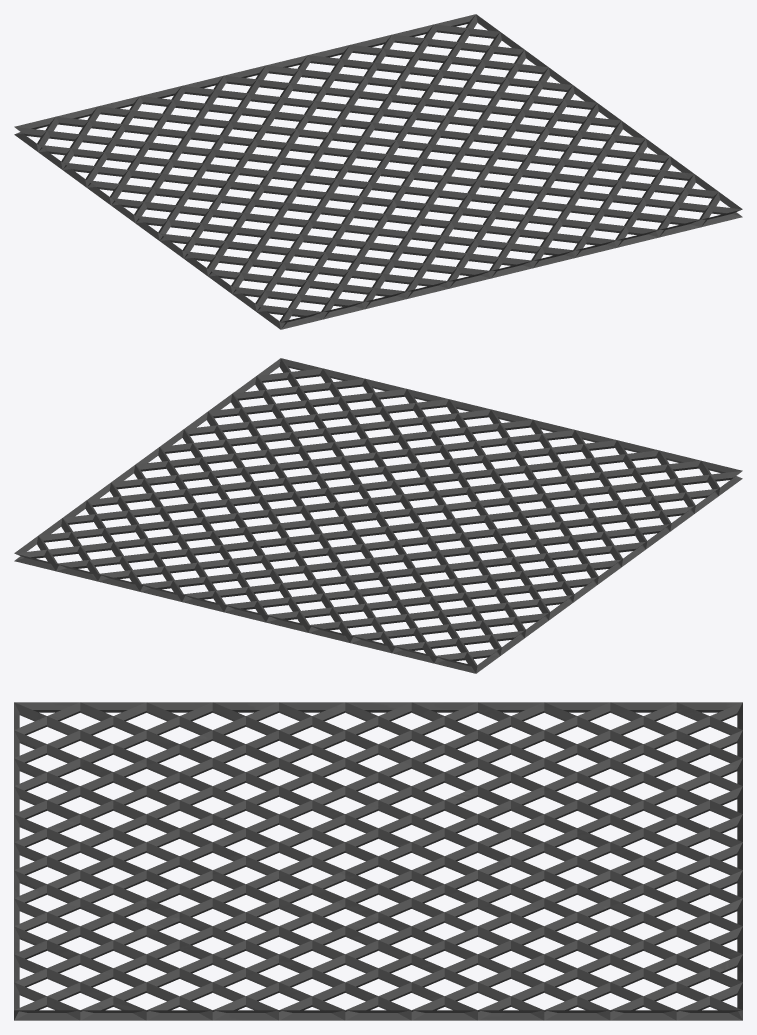
Rendered from grid roof.fbx.
The picture shows the model from 3 angles, top to bottom: view 1: azimuth 30°, elevation 25°; view 2: azimuth 150°, elevation 25°; view 3: azimuth 270°, elevation 25°; orthographic projection. The views are drawn at different scales.
Parts seen in each view (by area): view 1: Plane.001; view 2: Plane.001; view 3: Plane.001.
Boxes of the visible parts, <box> form: Plane.001: <box>14,14,742,329</box>; Plane.001: <box>14,358,742,673</box>; Plane.001: <box>14,702,742,1020</box>.
Bounding box in the file's own units: 2768 × 44.28 × 2768.
